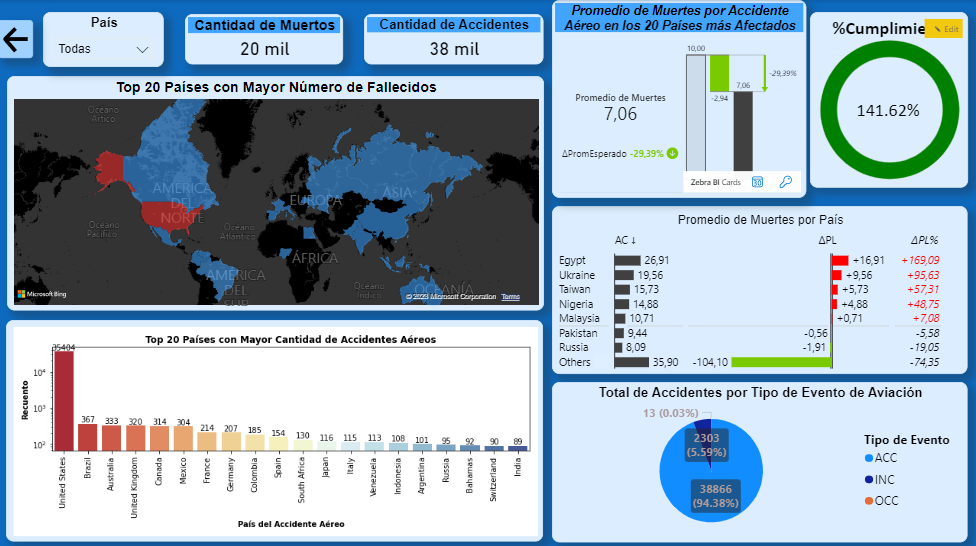

Layout of this report page (visuals, bound fields, positions):
{"tool":"powerbi","page":{"name":"KPI 4","canvas":[1280,720],"ordinal":3},"visuals":[{"type":"filledMap","title":"Top 20 Países con Mayor Número de Fallecidos","fields":{"Category":["TablaKPI4.Country"]},"box":[11.5,99.4,702.7,306.7],"z":0},{"type":"pythonVisual","title":"Barplot: Cantidad de Personas Fallecidas por País de Accidente","fields":{"Values":["final_NTSB_aviation_2000-2022.Country","final_NTSB_aviation_2000-2022.EventDate","final_NTSB_aviation_2000-2022.EventType","final_NTSB_aviation_2000-2022.FatalInjuryCount","final_NTSB_aviation_2000-2022.HighestInjuryLevel","final_NTSB_aviation_2000-2022.MinorInjuryCount","final_NTSB_aviation_2000-2022.SeriousInjuryCount"]},"box":[10.8,418.7,703,290.5],"z":1000},{"type":"variance8E4BB1B41A8942A7B897C7014A6E1F56","fields":{"Category":["TablaKPI4.Country"],"Plan":["TablaKPI4.KPI4"],"Values":["TablaKPI4.PromedioTasaMortalidad"]},"box":[725.8,269.3,544.3,220.3],"z":2000},{"type":"pieChart","title":"Total de Accidentes por Tipo de Evento de Aviación","fields":{"Category":["final_NTSB_aviation_2000-2022.EventType"],"Y":["final_NTSB_aviation_2000-2022.NumeroAccidentes"]},"box":[725.8,499.7,544.3,210.2],"z":3000},{"type":"slicer","title":"País","fields":{"Values":["TablaKPI4.Country"]},"box":[59,15.8,158.4,72],"z":4000},{"type":"card","title":"Cantidad de Muertos","fields":{"Values":["Sum(TablaKPI4.TotalMuertos)"]},"box":[244.8,18.7,207.4,66.2],"z":5000},{"type":"card","title":"Cantidad de Accidentes","fields":{"Values":["Sum(TablaKPI4.Número de Registros)"]},"box":[479.5,18.7,234.7,66.2],"z":6000},{"type":"zebraBiCards2C860CFAA9944091B75F0DBD117F20FA","title":"Promedio de Muertes por Accidente Aéreo en los 20 Países más Afectados","fields":{"Values":["TablaKPI4.PromedioMuertos"],"Plan":["TablaKPI4.KPI4"]},"box":[725.8,0,332.6,259.2],"z":7000},{"type":"pureVizInfographicC9801BF222134D2D83FA9C41861F3482","fields":{"dataset":["TablaKPI4.%Cumplimiento4","TablaKPI4.Color4"]},"box":[1062.7,15.8,207.4,230.4],"z":8000},{"type":"actionButton","box":[0,25.9,46.1,50.4],"z":9000}]}

Visuals, with their boxes in screenshot pixels (x1, y1, x2, y2), scaled from the page's 1280x720 canvas onto the 976x546 screenshot:
"Top 20 Países con Mayor Número de Fallecidos" filledMap: detection(9, 75, 545, 308)
"Barplot: Cantidad de Personas Fallecidas por País de Accidente" pythonVisual: detection(8, 318, 544, 538)
variance8E4BB1B41A8942A7B897C7014A6E1F56 - TablaKPI4.Country x TablaKPI4.KPI4: detection(553, 204, 968, 371)
"Total de Accidentes por Tipo de Evento de Aviación" pieChart: detection(553, 379, 968, 538)
"País" slicer: detection(45, 12, 166, 67)
"Cantidad de Muertos" card: detection(187, 14, 345, 64)
"Cantidad de Accidentes" card: detection(366, 14, 545, 64)
"Promedio de Muertes por Accidente Aéreo en los 20 Países más Afectados" zebraBiCards2C860CFAA9944091B75F0DBD117F20FA: detection(553, 0, 807, 197)
pureVizInfographicC9801BF222134D2D83FA9C41861F3482 - TablaKPI4.%Cumplimiento4 x TablaKPI4.Color4: detection(810, 12, 968, 187)
actionButton: detection(0, 20, 35, 58)
